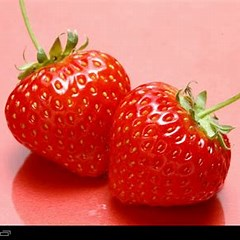strawberry: (4, 42, 137, 181), (103, 79, 234, 211)
